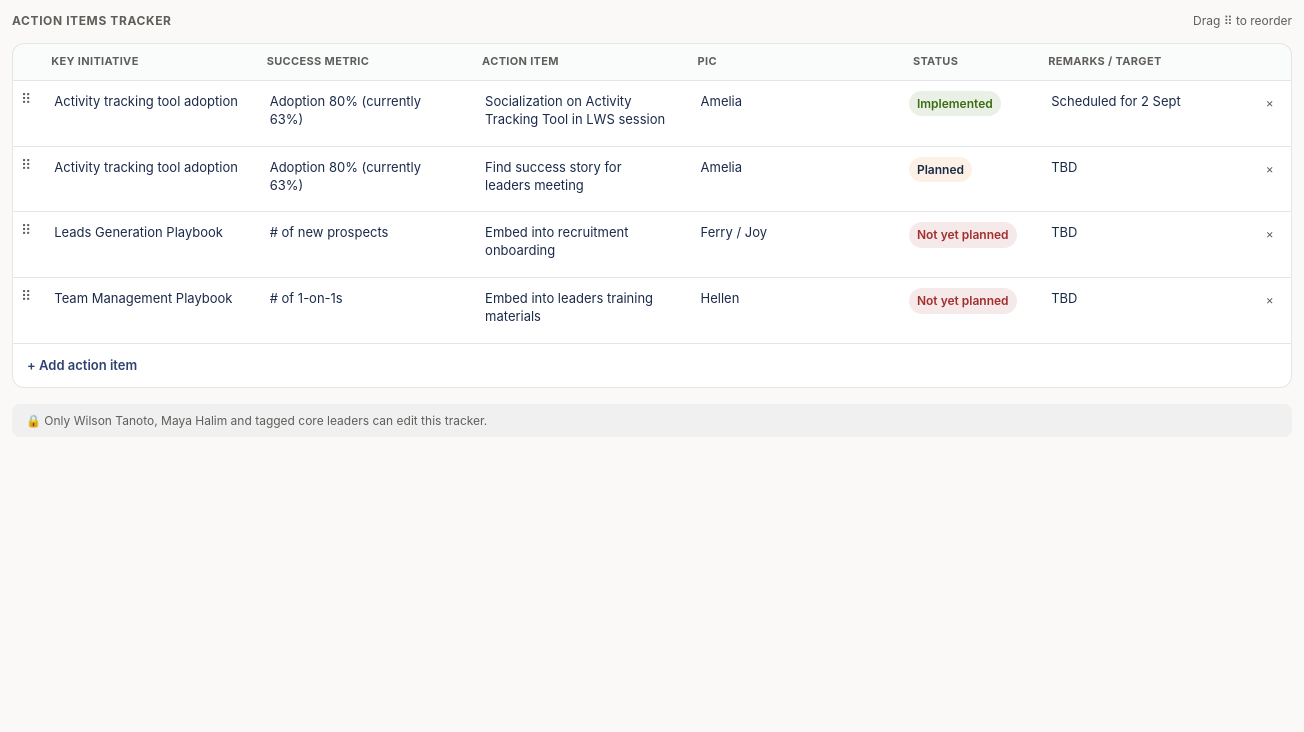
it: P18.1-T2 AC-6 writing the tracker › *Implemented* goes back to *Not yet planned*, as drawn (`:2865`)
This screenshot has width=1304, height=732.
What coordinates should you click on to do the following:
click the button with aria-label "Implemented. Change to Not yet planned"
I would click on:
 (955, 104)
Its box is [909,91,1001,116].
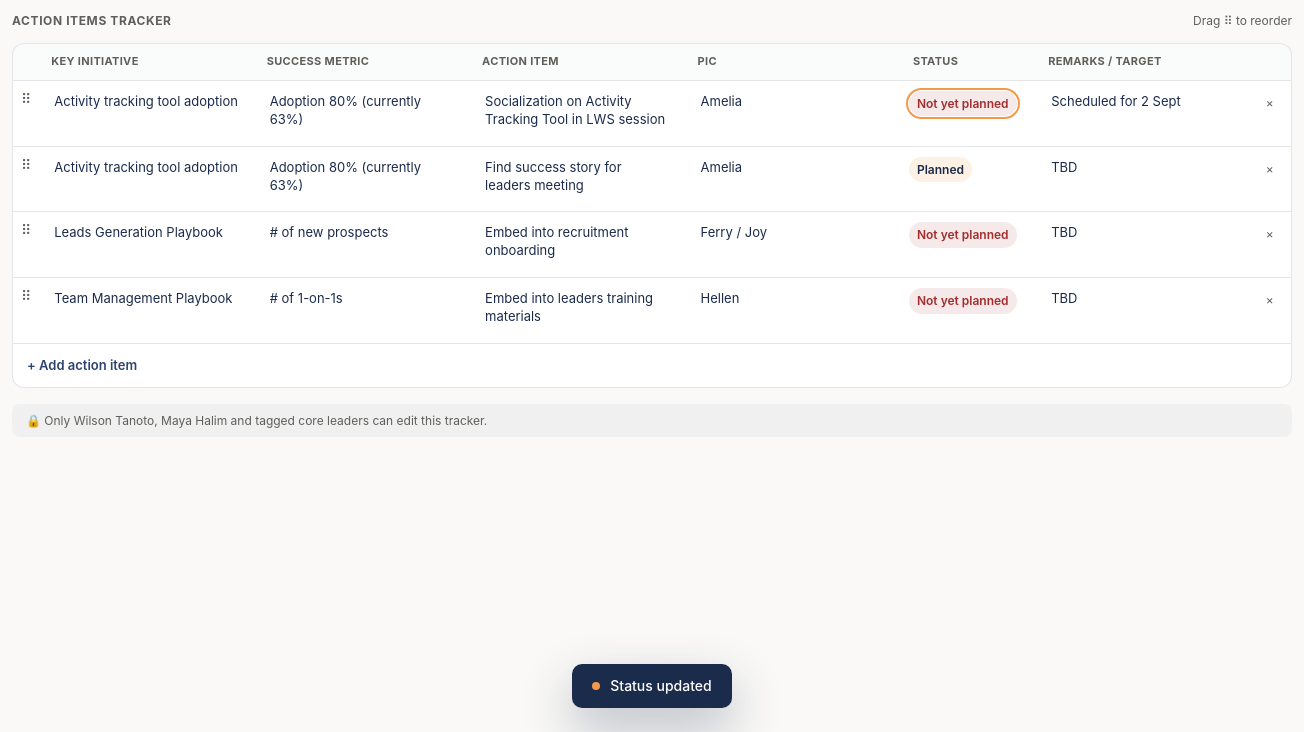
Result: the text "Status updated" is shown at [572,664,732,708]
